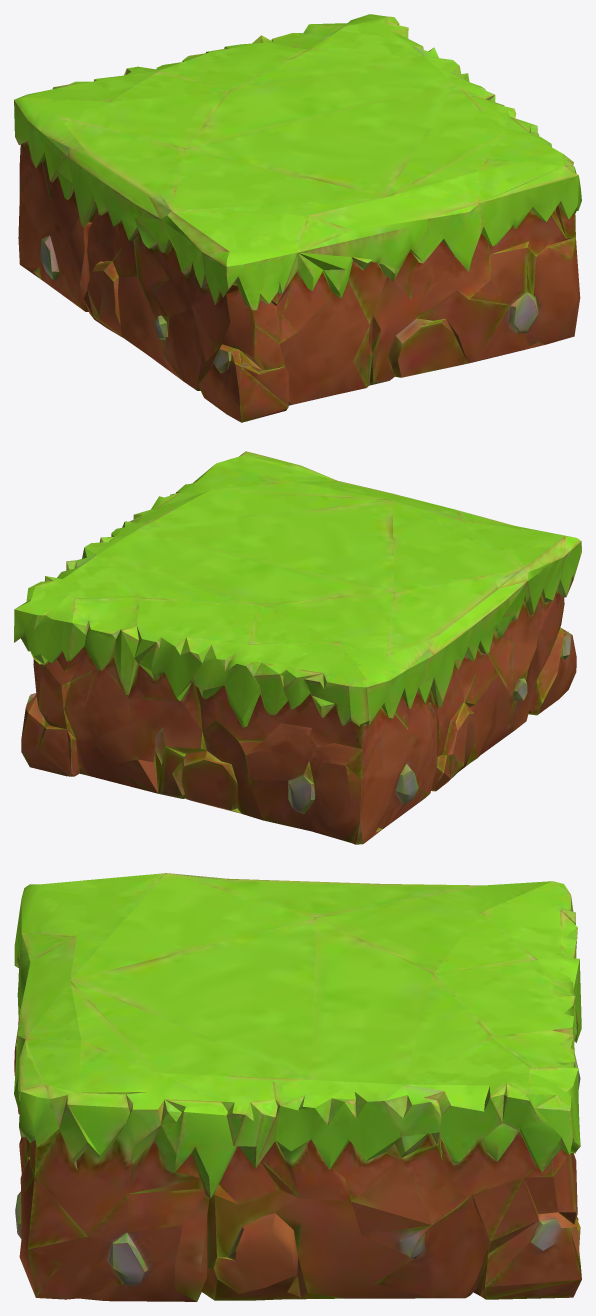
File: grass-plain.glb
3 renders of one model, top to bottom at view 1: azimuth 30°, elevation 25°; view 2: azimuth 150°, elevation 25°; view 3: azimuth 270°, elevation 25°, orthographic. The views are drawn at different scales.
Visible parts, largest first — view 1: output_unwrapped; view 2: output_unwrapped; view 3: output_unwrapped.
Boxes of the visible parts, bbox=[...] form: output_unwrapped: bbox=[14, 14, 581, 422]; output_unwrapped: bbox=[14, 451, 581, 844]; output_unwrapped: bbox=[14, 873, 581, 1301].
Bounding box in the file's own units: 1.83 × 0.7979 × 1.9.
1 material, 1 textured.
